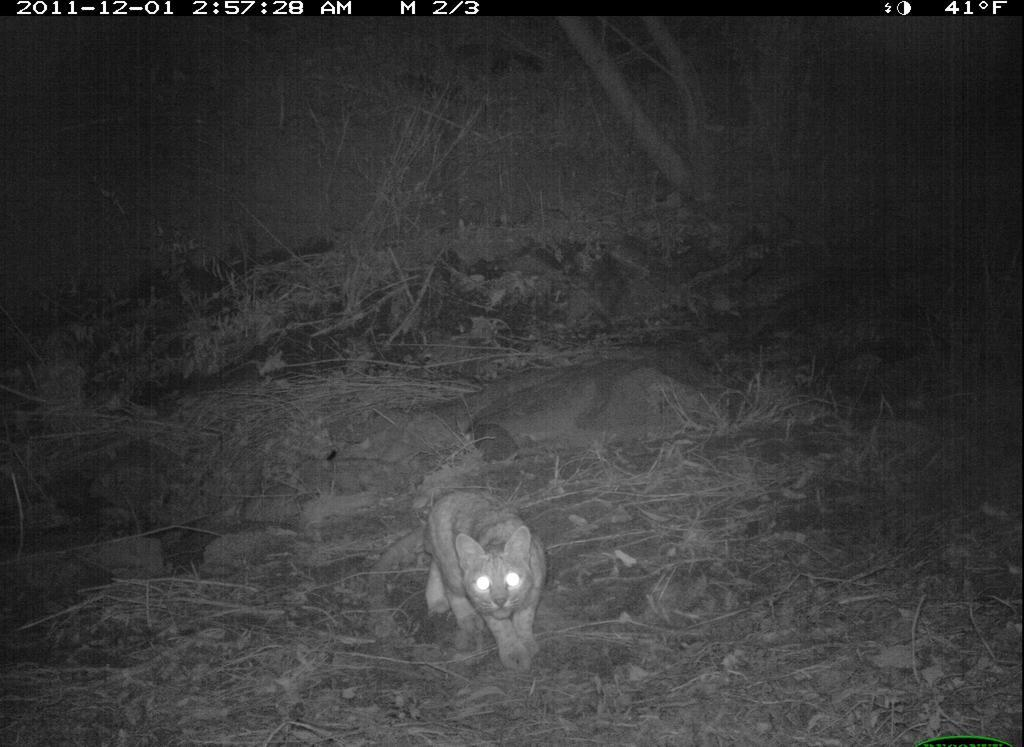bobcat: (418, 487, 550, 671)
